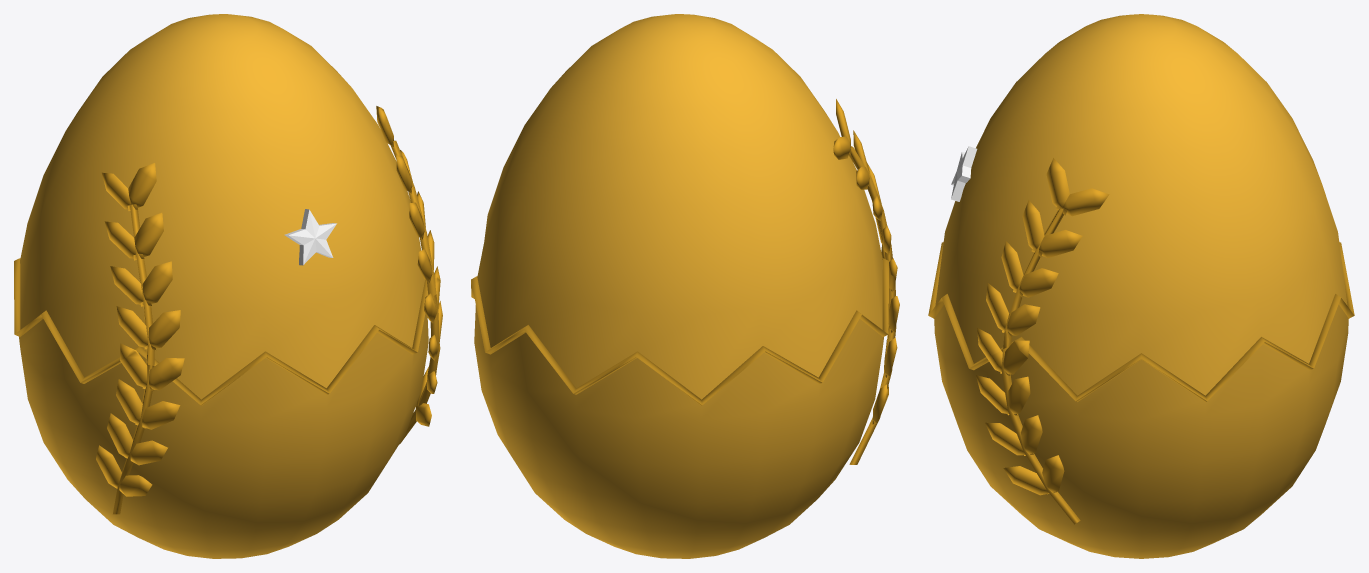
The model's file is oeuf_champion.fbx.
The picture shows the model from 3 angles, left to right: view 1: azimuth 30°, elevation 25°; view 2: azimuth 150°, elevation 25°; view 3: azimuth 270°, elevation 25°; orthographic projection.
Parts seen in each view (by area): view 1: oeuf_champion_Haut, oeuf_champion_Bas, oeuf_champion_Lauriers_Haut, oeuf_champion_Lauriers_Bas, oeuf_champion_Fente_Haut, oeuf_champion_Etoile, oeuf_champion_Fente_Bas; view 2: oeuf_champion_Haut, oeuf_champion_Bas, oeuf_champion_Fente_Haut, oeuf_champion_Lauriers_Haut, oeuf_champion_Lauriers_Bas, oeuf_champion_Fente_Bas; view 3: oeuf_champion_Haut, oeuf_champion_Bas, oeuf_champion_Lauriers_Haut, oeuf_champion_Lauriers_Bas, oeuf_champion_Fente_Haut, oeuf_champion_Fente_Bas, oeuf_champion_Etoile.
Boxes of the visible parts, left/top/right/bottom form: oeuf_champion_Haut: left=20, top=14, right=424, bottom=399; oeuf_champion_Bas: left=19, top=313, right=428, bottom=558; oeuf_champion_Lauriers_Haut: left=102, top=106, right=440, bottom=382; oeuf_champion_Lauriers_Bas: left=96, top=279, right=442, bottom=514; oeuf_champion_Fente_Haut: left=14, top=258, right=428, bottom=405; oeuf_champion_Etoile: left=284, top=209, right=336, bottom=265; oeuf_champion_Fente_Bas: left=14, top=315, right=417, bottom=405; oeuf_champion_Haut: left=477, top=14, right=882, bottom=399; oeuf_champion_Bas: left=474, top=305, right=883, bottom=558; oeuf_champion_Fente_Haut: left=471, top=258, right=888, bottom=405; oeuf_champion_Lauriers_Haut: left=833, top=99, right=897, bottom=277; oeuf_champion_Lauriers_Bas: left=849, top=264, right=899, bottom=464; oeuf_champion_Fente_Bas: left=471, top=280, right=888, bottom=405; oeuf_champion_Haut: left=935, top=14, right=1347, bottom=395; oeuf_champion_Bas: left=934, top=304, right=1348, bottom=558; oeuf_champion_Lauriers_Haut: left=977, top=158, right=1109, bottom=358; oeuf_champion_Lauriers_Bas: left=976, top=343, right=1080, bottom=524; oeuf_champion_Fente_Haut: left=928, top=242, right=1354, bottom=401; oeuf_champion_Fente_Bas: left=928, top=298, right=1354, bottom=401; oeuf_champion_Etoile: left=951, top=146, right=977, bottom=201.
Bounding box in the file's own units: 1.84 × 2.5 × 1.87.
